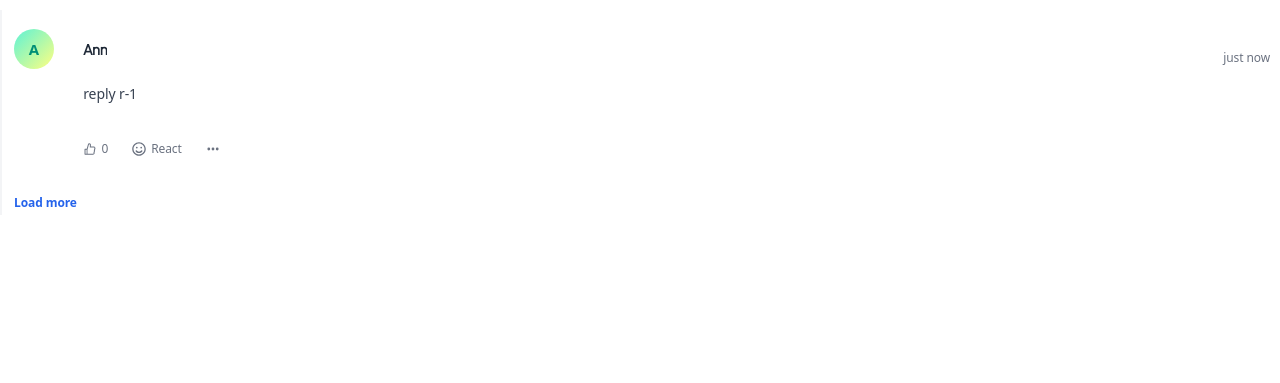
Scenario: RepliesThread › appends the next page and keeps the replies already shown
The width and height of the screenshot is (1280, 383).
Expected: the heading "Ann" is shown, [83,39,108,59]
Expected: the text "Ben" is not shown
Click the button with test id "replies-load-more". click: [45, 203]
box: [14,190,77,216]
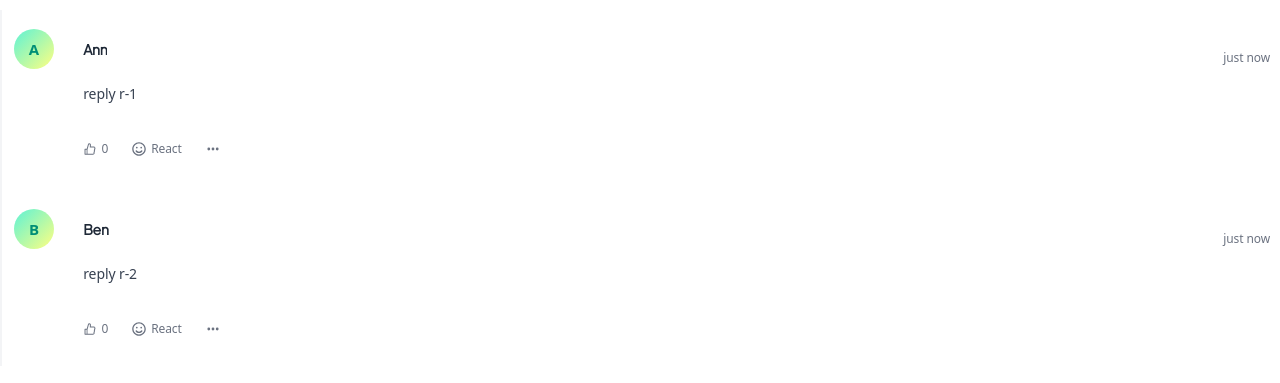
Expected: the heading "Ann" is shown, [83,39,108,59]
Expected: the heading "Ben" is shown, [83,219,109,239]
Expected: the button with test id "replies-load-more" is gone
